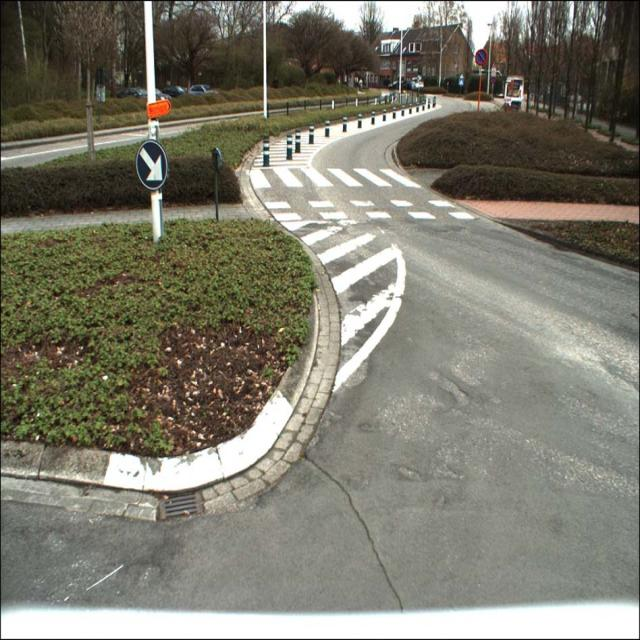parkyasak: (475, 50, 488, 66)
